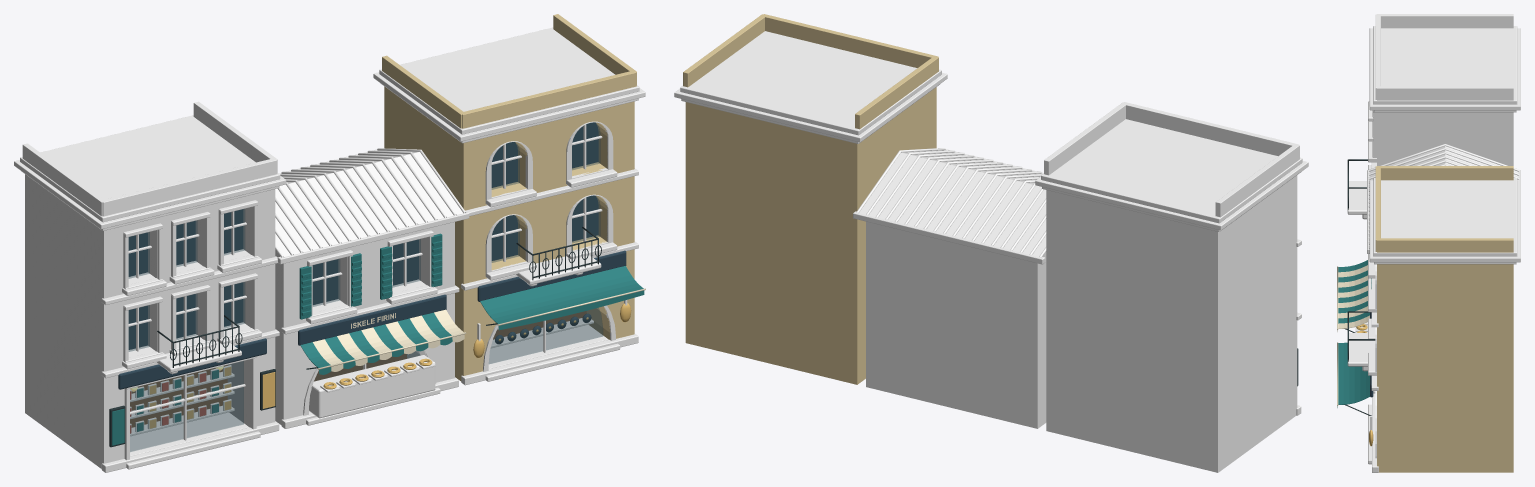
The model's file is DistrictBlock_5_1.glb.
The picture shows the model from 3 angles, left to right: view 1: azimuth 30°, elevation 25°; view 2: azimuth 150°, elevation 25°; view 3: azimuth 270°, elevation 25°; orthographic projection. The views are drawn at different scales.
Parts seen in each view (by area): view 1: RK_DistrictBlock_5_1_LC_Lime, RK_DistrictBlock_5_1_LC_Ochre, RK_DistrictBlock_5_1_LC_Glass, RK_DistrictBlock_5_1_LC_Wood, RK_DistrictBlock_5_1_LC_Ink, RK_DistrictBlock_5_1_LC_Tile, RK_DistrictBlock_5_1_LC_Teal, RK_DistrictBlock_5_1_LC_Cream, RK_DistrictBlock_5_1_LC_Canvas, RK_DistrictBlock_5_1_LC_Iron, RK_DistrictBlock_5_1_LC_Interior, RK_DistrictBlock_5_1_LC_Gold; view 2: RK_DistrictBlock_5_1_LC_Lime, RK_DistrictBlock_5_1_LC_Ochre, RK_DistrictBlock_5_1_LC_Cream, RK_DistrictBlock_5_1_LC_Tile, RK_DistrictBlock_5_1_LC_Wood; view 3: RK_DistrictBlock_5_1_LC_Lime, RK_DistrictBlock_5_1_LC_Ochre, RK_DistrictBlock_5_1_LC_Teal, RK_DistrictBlock_5_1_LC_Tile, RK_DistrictBlock_5_1_LC_Canvas, RK_DistrictBlock_5_1_LC_Iron, RK_DistrictBlock_5_1_LC_Wood.
Part boxes in pixels (x1,y1,x2,y2): RK_DistrictBlock_5_1_LC_Lime: (14, 27, 645, 472); RK_DistrictBlock_5_1_LC_Ochre: (382, 14, 636, 381); RK_DistrictBlock_5_1_LC_Glass: (129, 122, 602, 451); RK_DistrictBlock_5_1_LC_Wood: (128, 124, 627, 456); RK_DistrictBlock_5_1_LC_Ink: (118, 122, 626, 389); RK_DistrictBlock_5_1_LC_Tile: (275, 148, 465, 257); RK_DistrictBlock_5_1_LC_Teal: (112, 233, 644, 445); RK_DistrictBlock_5_1_LC_Cream: (275, 222, 454, 425); RK_DistrictBlock_5_1_LC_Canvas: (313, 288, 645, 371); RK_DistrictBlock_5_1_LC_Iron: (109, 227, 601, 447); RK_DistrictBlock_5_1_LC_Interior: (130, 311, 586, 427); RK_DistrictBlock_5_1_LC_Gold: (149, 303, 631, 428); RK_DistrictBlock_5_1_LC_Lime: (674, 31, 1308, 472); RK_DistrictBlock_5_1_LC_Ochre: (683, 14, 938, 384); RK_DistrictBlock_5_1_LC_Cream: (866, 221, 1046, 428); RK_DistrictBlock_5_1_LC_Tile: (856, 148, 1046, 257); RK_DistrictBlock_5_1_LC_Wood: (853, 149, 1045, 264); RK_DistrictBlock_5_1_LC_Lime: (1347, 14, 1520, 472); RK_DistrictBlock_5_1_LC_Ochre: (1375, 166, 1513, 472); RK_DistrictBlock_5_1_LC_Teal: (1337, 260, 1371, 407); RK_DistrictBlock_5_1_LC_Tile: (1368, 144, 1519, 248); RK_DistrictBlock_5_1_LC_Canvas: (1337, 265, 1369, 406); RK_DistrictBlock_5_1_LC_Iron: (1344, 159, 1375, 415); RK_DistrictBlock_5_1_LC_Wood: (1367, 170, 1520, 430).
Bounding box in the file's own units: 19.1 × 9.02 × 6.44.
